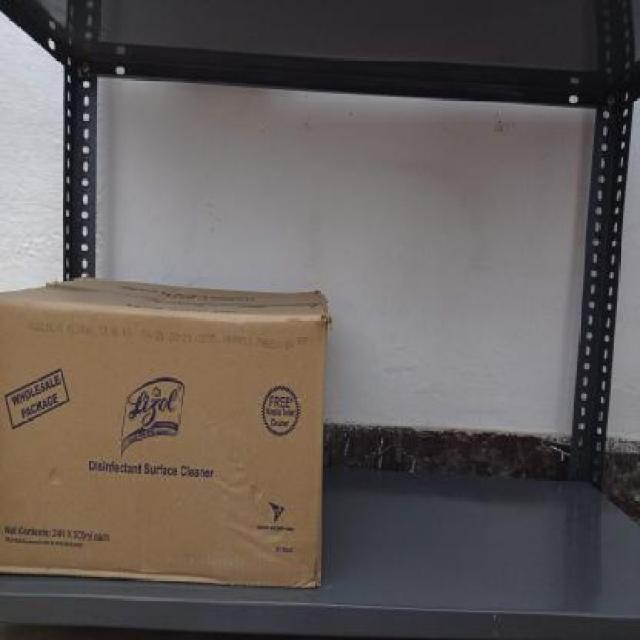box: (0, 313, 326, 575)
